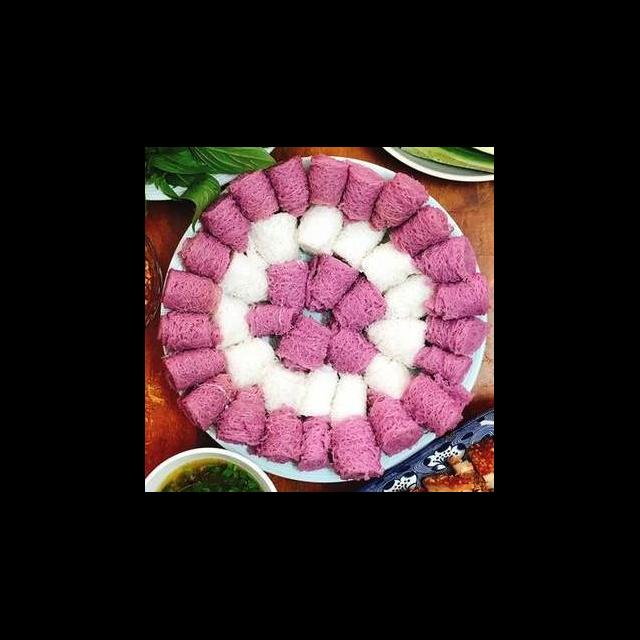banh hoi: (398, 368, 474, 439), (362, 384, 427, 460), (366, 168, 432, 236), (358, 237, 427, 300), (328, 412, 388, 483), (386, 202, 459, 260), (174, 368, 240, 432), (364, 312, 432, 374), (244, 400, 306, 468), (270, 313, 334, 377), (258, 352, 318, 419), (422, 270, 493, 326), (320, 318, 382, 382), (328, 272, 390, 336), (302, 252, 364, 316), (262, 152, 318, 222), (158, 342, 230, 396), (198, 192, 256, 258), (176, 227, 236, 290), (412, 232, 479, 288), (216, 382, 272, 449), (220, 332, 280, 394), (334, 158, 388, 226), (330, 212, 390, 272), (292, 198, 348, 262), (378, 270, 443, 324), (294, 356, 344, 426), (244, 208, 304, 266), (208, 290, 260, 356), (160, 266, 226, 318), (218, 248, 274, 308), (419, 312, 492, 358), (260, 256, 314, 318), (226, 167, 282, 226), (154, 308, 226, 352), (300, 152, 352, 210), (412, 342, 477, 388), (362, 351, 418, 402), (242, 300, 306, 342), (326, 372, 374, 428), (294, 414, 336, 474)
